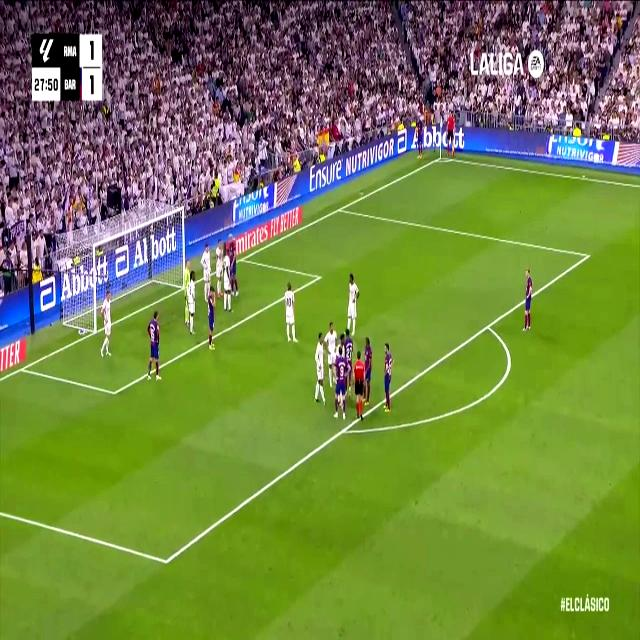bigarea_bottom_inner: (160, 544, 173, 578)
bigarea_top_inner: (583, 245, 592, 266)
bigarea_top_outter: (335, 200, 345, 218)
bottom_arc_area_intersection: (339, 420, 349, 440)
corner: (436, 153, 445, 163)
smallarea_bottom_inner: (109, 380, 119, 405)
smallarea_bottom_outter: (18, 360, 27, 377)
smallarea_top_inner: (314, 268, 324, 286)
smallarea_top_outter: (238, 252, 246, 267)
top_arc_area_intersection: (483, 315, 493, 336)
